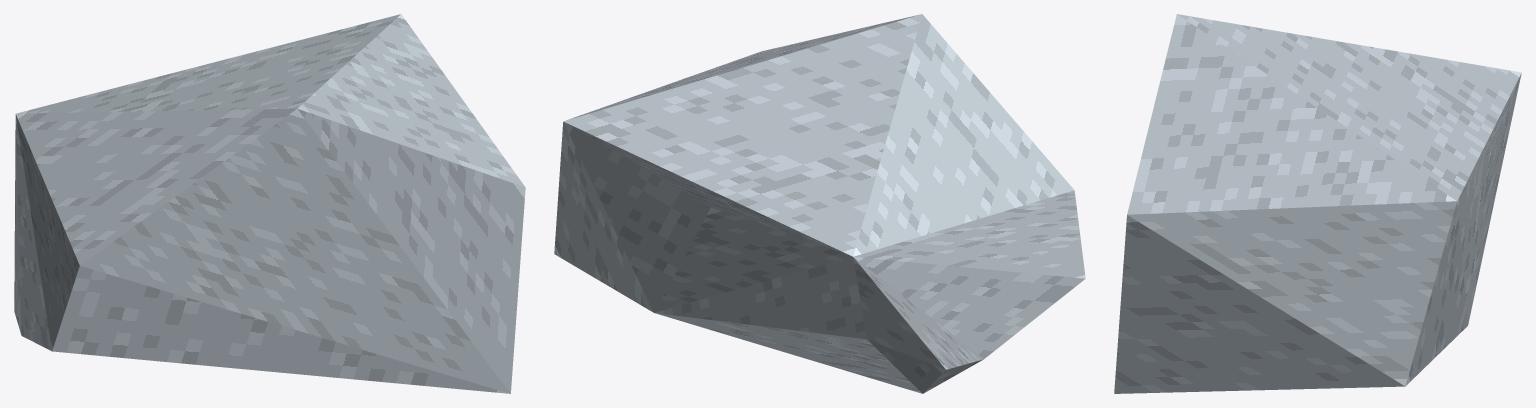
Rendered from material_aluminium_ingot.glb.
3 views of the same model, side by side, from view 1: azimuth 30°, elevation 25°; view 2: azimuth 150°, elevation 25°; view 3: azimuth 270°, elevation 25° (orthographic). The views are drawn at different scales.
Parts seen in each view (by area): view 1: block_irregular metal; view 2: block_irregular metal; view 3: block_irregular metal.
Part boxes in pixels (<box>): block_irregular metal: <box>14,14,525,393</box>; block_irregular metal: <box>554,14,1085,393</box>; block_irregular metal: <box>1114,14,1521,393</box>.
Size of the model in its own units: 0.084 by 0.0513 by 0.0617.
1 material, 1 textured.
